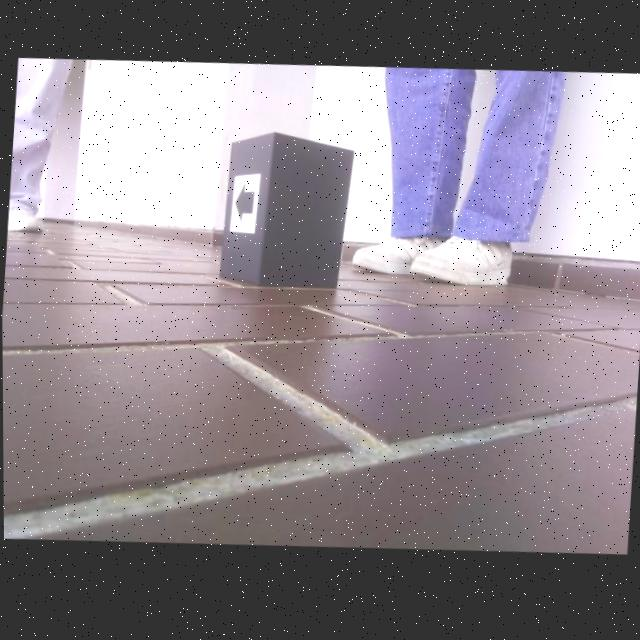LEFT: (234, 183, 255, 227)
